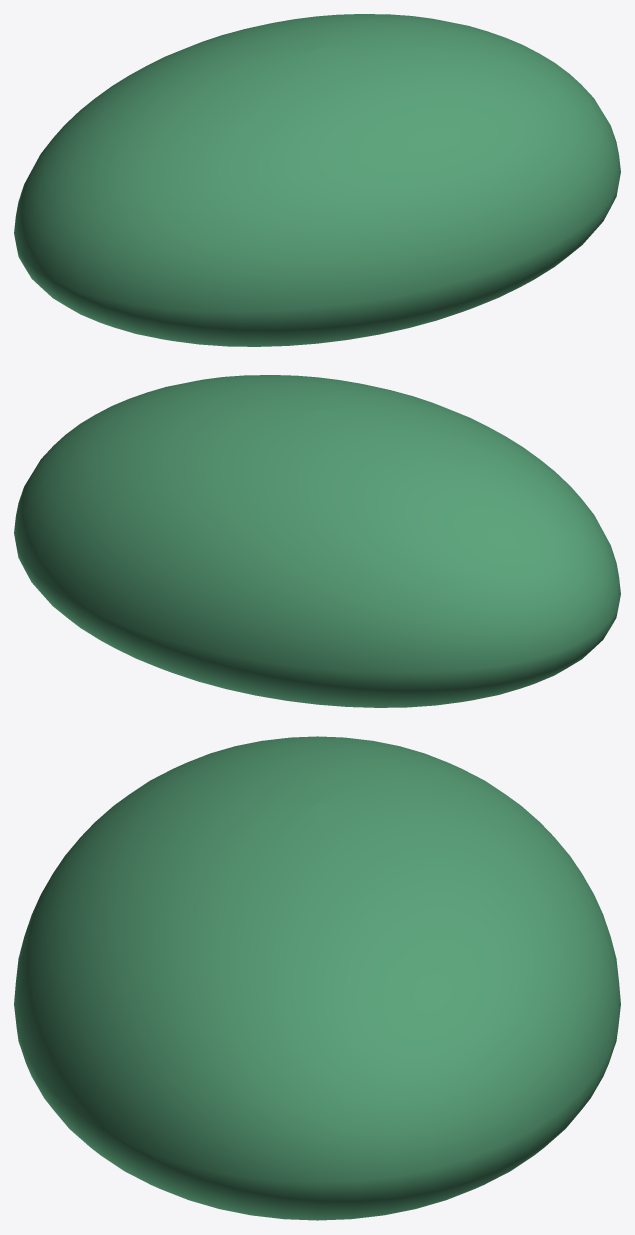
File: jewelry.glb
The picture shows the model from 3 angles, top to bottom: view 1: azimuth 30°, elevation 25°; view 2: azimuth 150°, elevation 25°; view 3: azimuth 270°, elevation 25°; orthographic projection. The views are drawn at different scales.
Visible parts, largest first — view 1: chrysoprase; view 2: chrysoprase; view 3: chrysoprase.
Part boxes in pixels (<box>): chrysoprase: <box>14,14,620,346</box>; chrysoprase: <box>14,375,620,707</box>; chrysoprase: <box>14,736,620,1220</box>.
Size of the model in its own units: 2.36 by 1 by 1.7.
